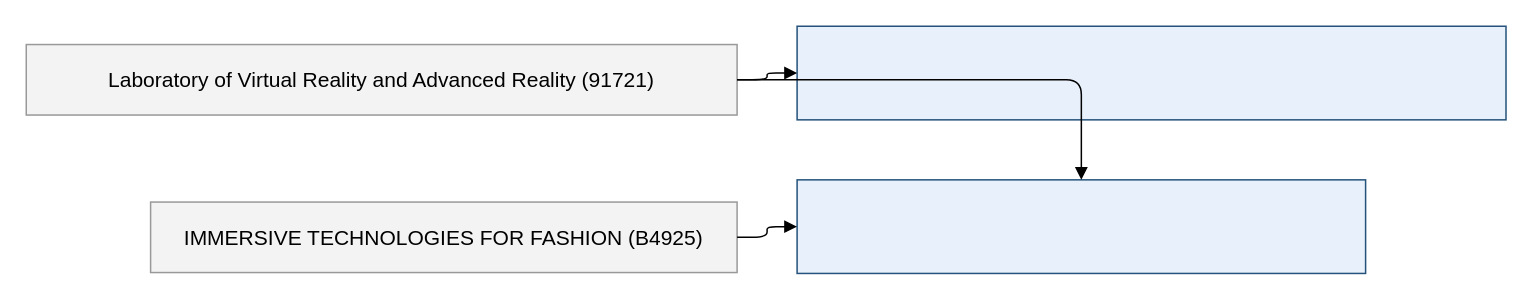
This 1533x300 diagram has some shape labels left out. Each missing label, with the box of its shape:
Immersive Reality Creation, Interaction, and Collaboration 3 ECTS: (796, 25, 1506, 120)
Immersive Reality Foundations and Platforms 3 ECTS: (796, 178, 1366, 273)
